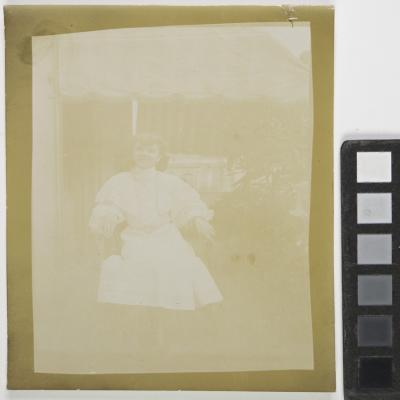photos_negatives: (3, 2, 333, 390)
